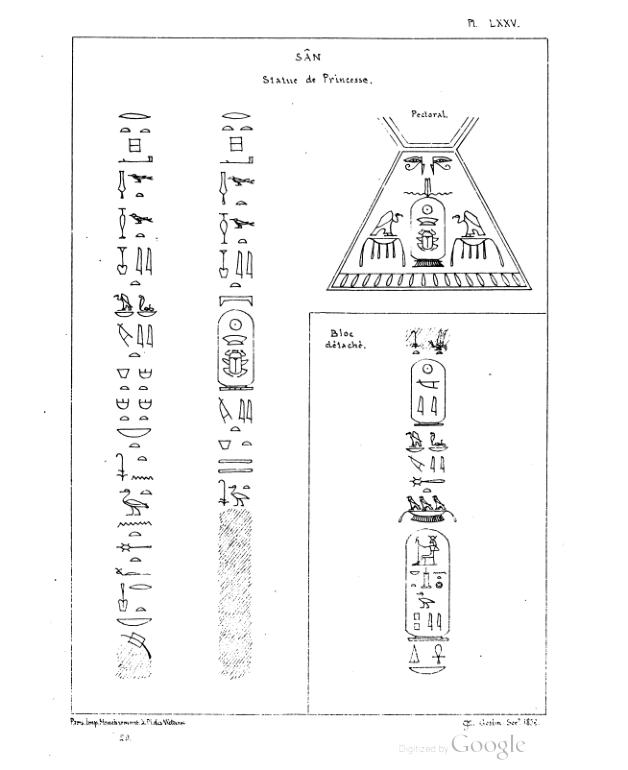circle: (400, 526, 456, 645), (211, 307, 261, 395), (406, 357, 452, 428), (407, 195, 451, 264)
